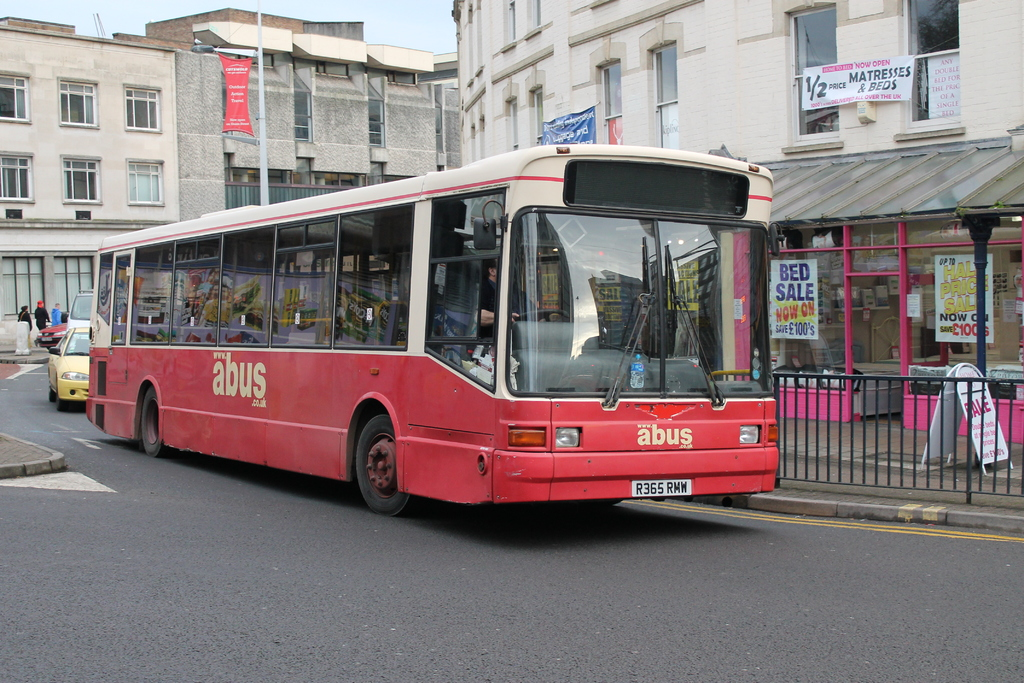Car: (45, 329, 88, 408)
